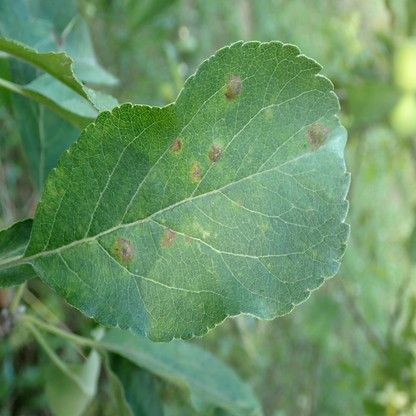scab: (305, 124, 329, 151), (112, 238, 134, 262), (225, 73, 242, 99), (161, 227, 175, 247), (208, 143, 222, 162), (169, 139, 183, 151), (265, 107, 273, 120), (184, 235, 191, 243), (236, 199, 242, 207)
